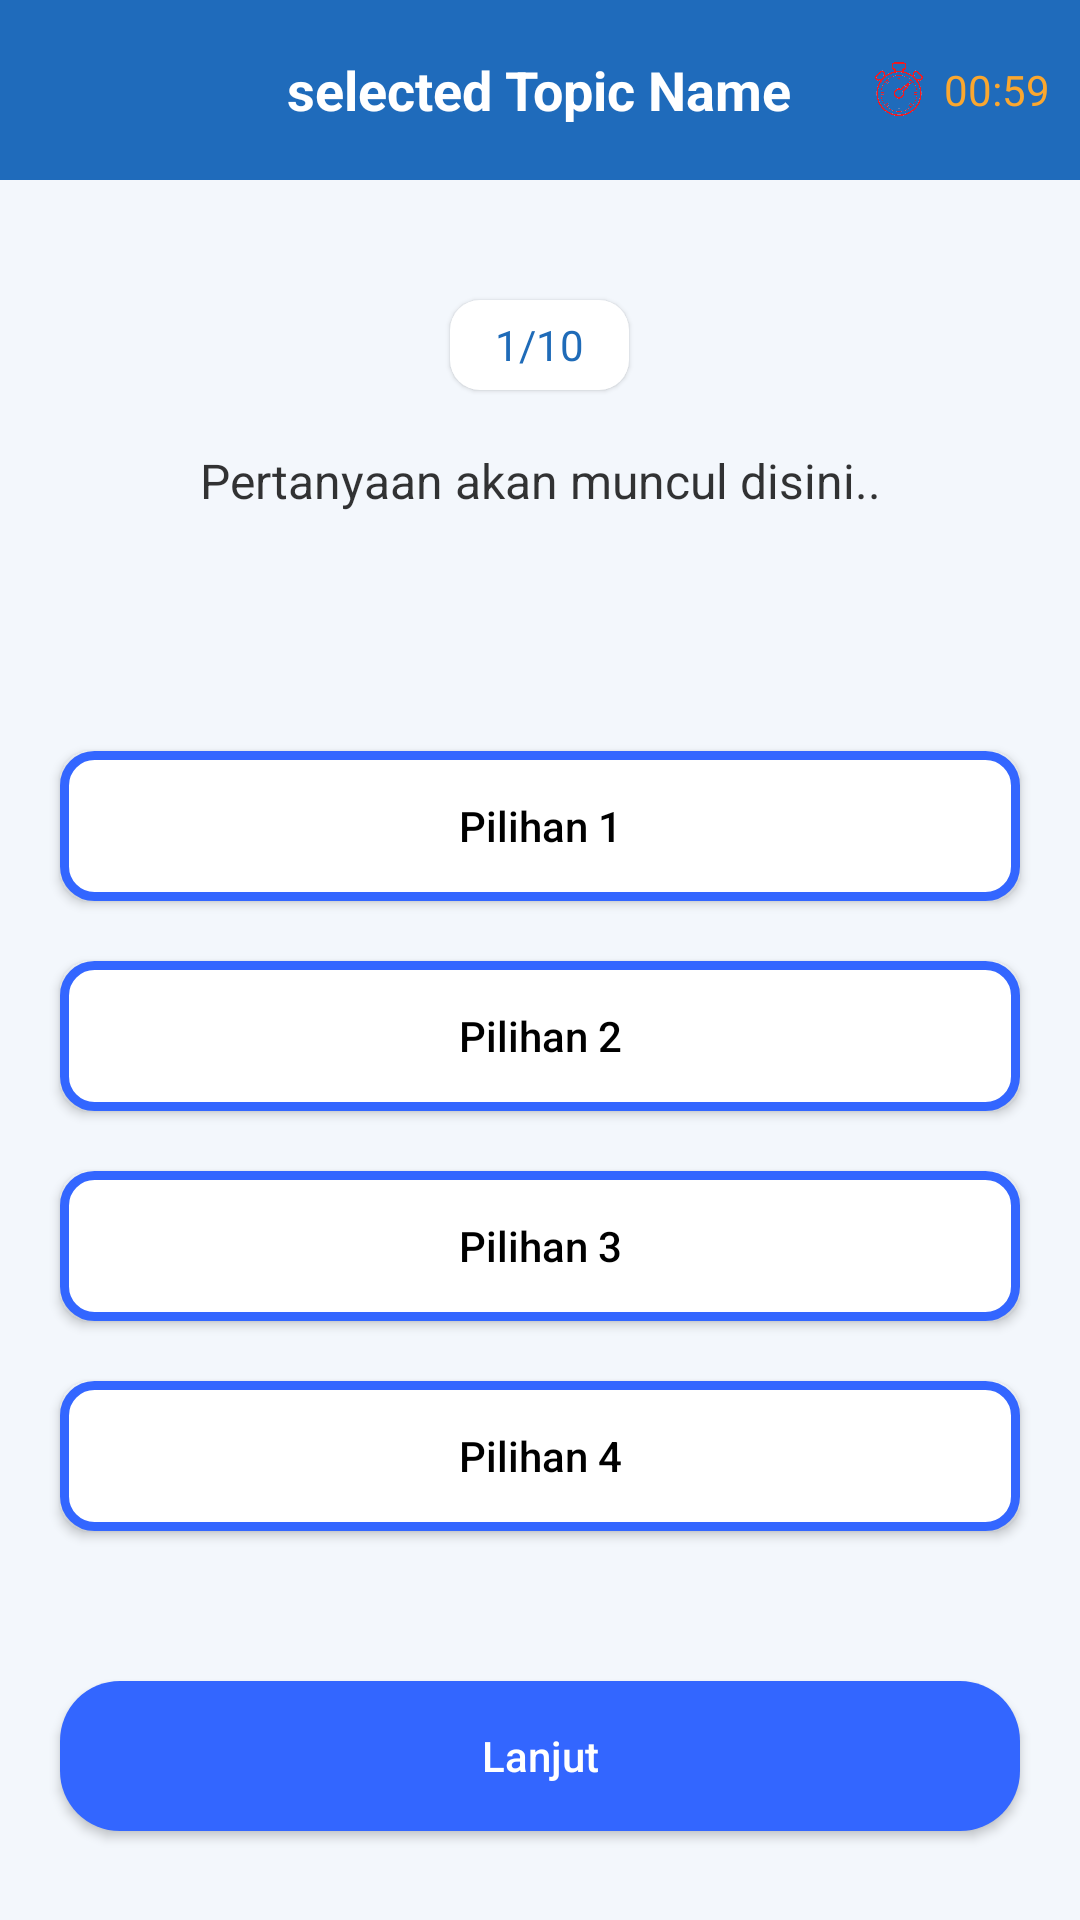

Where to tap for icons on this 1080 × 1920 app screen, as [x,y]:
timeicon: [899,89]
